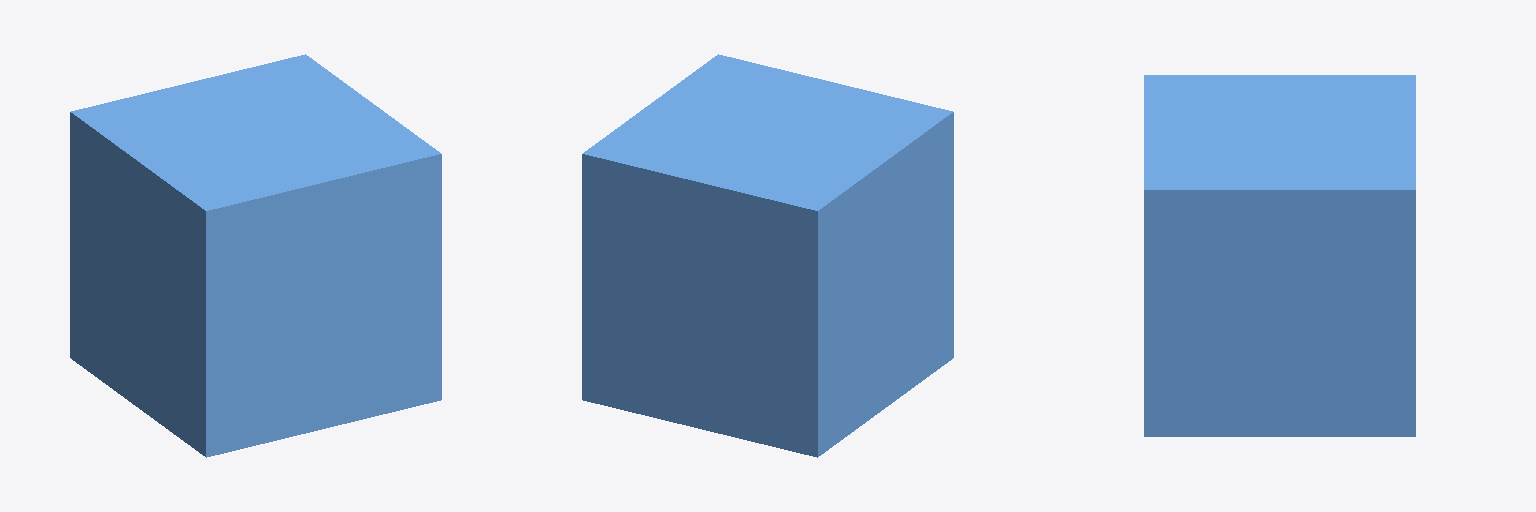
The picture shows the model from 3 angles: view 1: azimuth 30°, elevation 25°; view 2: azimuth 150°, elevation 25°; view 3: azimuth 270°, elevation 25°; orthographic projection.
Parts seen in each view (by area): view 1: Cube_Cube.001; view 2: Cube_Cube.001; view 3: Cube_Cube.001.
Boxes of the visible parts, box(x1,y1,x2,y2) form: Cube_Cube.001: box(70, 54, 441, 457); Cube_Cube.001: box(582, 54, 953, 457); Cube_Cube.001: box(1144, 75, 1415, 436).
Size of the model in its own units: 2 by 2 by 2.
1 materials, 1 textured.